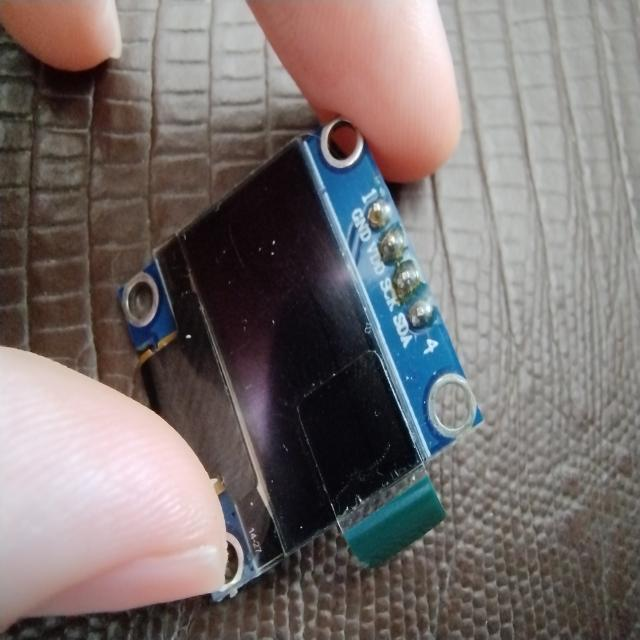oled: (111, 115, 485, 604)
